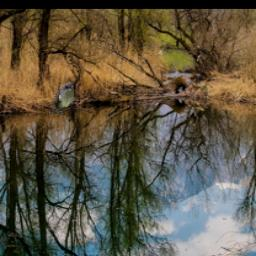Cuckoo: (49, 82, 74, 114)
